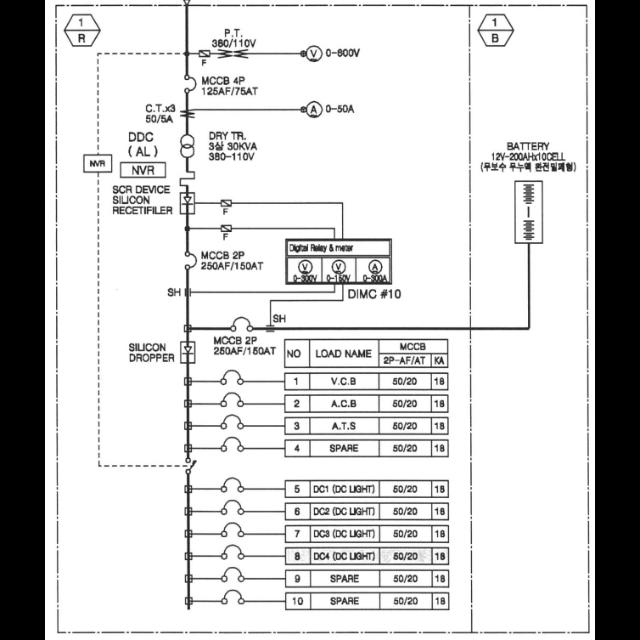CT: (181, 109, 195, 119)
MCCB: (221, 369, 243, 385), (221, 414, 243, 430), (222, 436, 244, 452), (222, 566, 244, 582), (222, 393, 244, 407), (222, 478, 244, 492), (222, 500, 244, 514), (222, 522, 244, 536), (222, 545, 244, 559), (222, 590, 244, 604), (232, 317, 252, 331), (185, 75, 197, 93), (186, 252, 198, 270)
PF2: (221, 224, 231, 232), (222, 200, 232, 206), (200, 50, 210, 56)
PT: (218, 49, 248, 59)
